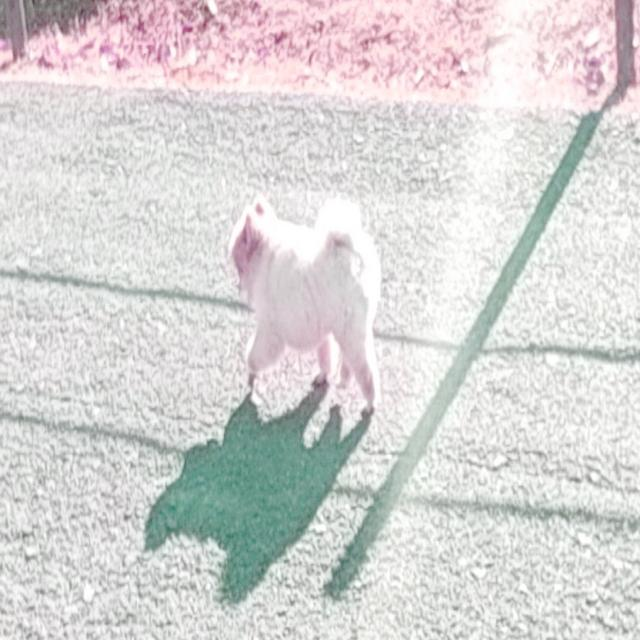Dog: (227, 195, 381, 410)
